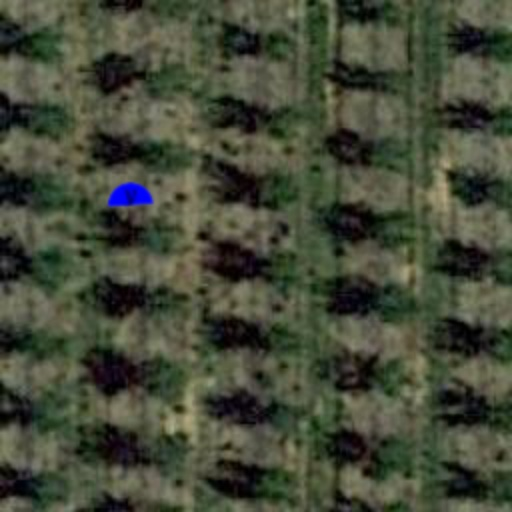semicircle: (104, 168, 156, 220)
